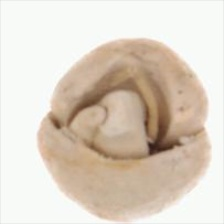L3: (54, 60, 195, 162)
L4: (37, 37, 210, 220)
